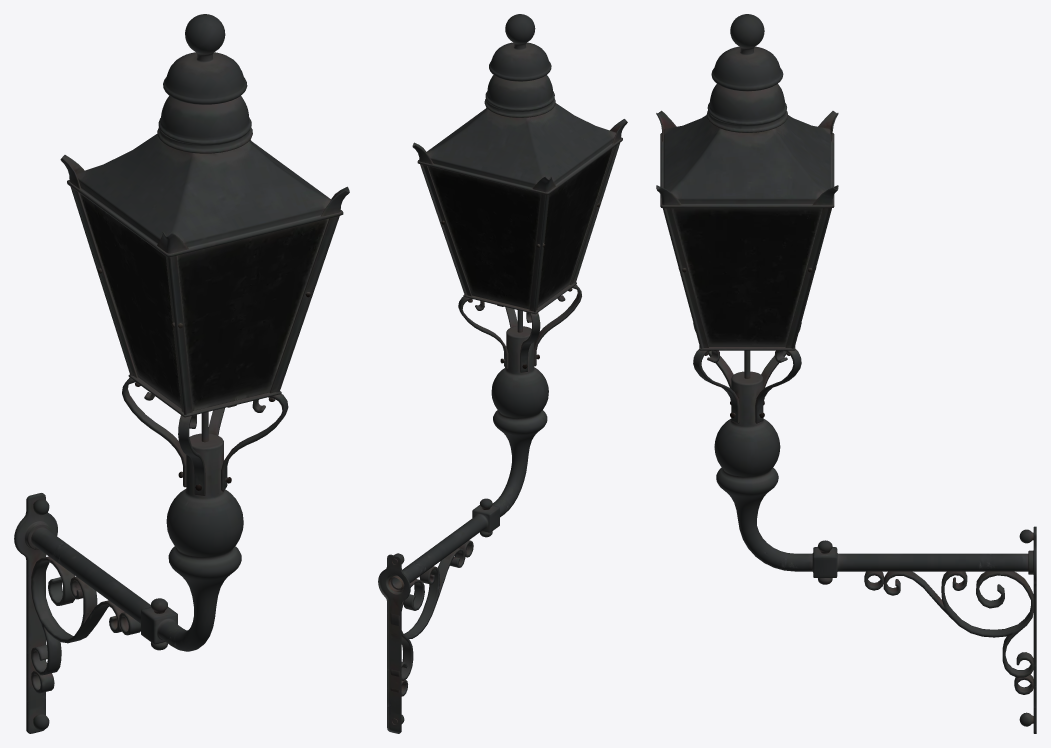
File: street_lamp_02.glb
3 renders of one model, left to right at view 1: azimuth 30°, elevation 25°; view 2: azimuth 150°, elevation 25°; view 3: azimuth 270°, elevation 25°, orthographic. The views are drawn at different scales.
Parts seen in each view (by area): view 1: street_lamp_02; view 2: street_lamp_02; view 3: street_lamp_02.
Boxes of the visible parts, x1,y1,x2,y2 form: street_lamp_02: (14,14,349,733); street_lamp_02: (378,14,627,733); street_lamp_02: (656,14,1036,733).
Bounding box in the file's own units: 0.3865 × 1.68 × 0.8067.
2 materials, 2 textured.
